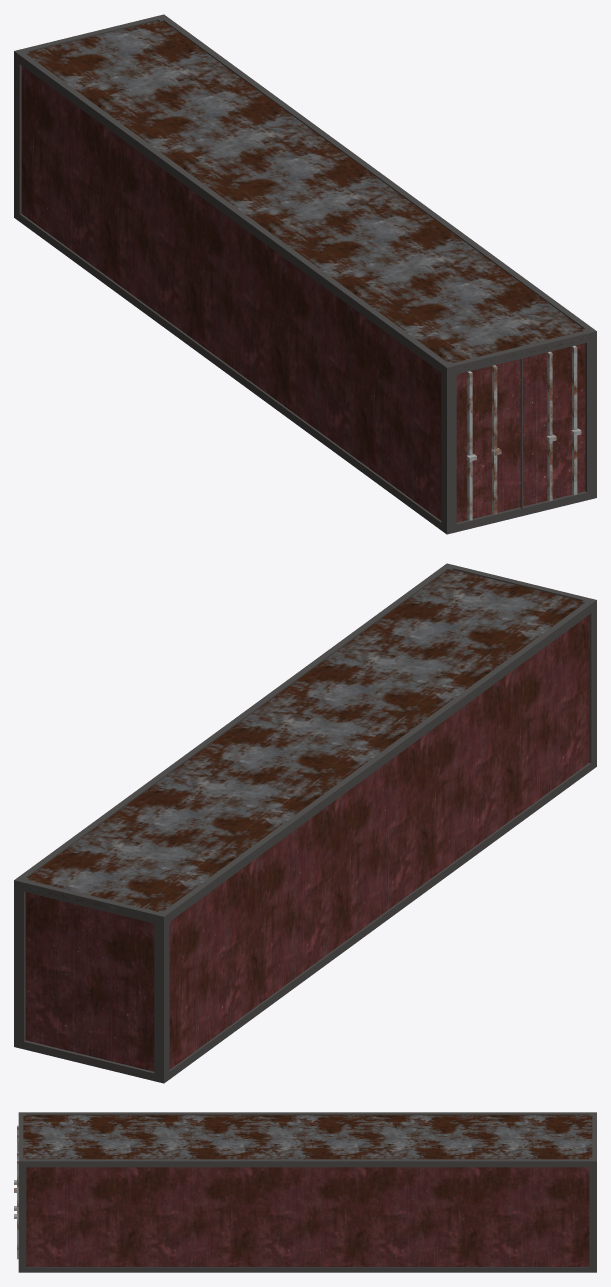
File: container_40_vermelho.glb
The picture shows the model from 3 angles, top to bottom: view 1: azimuth 30°, elevation 25°; view 2: azimuth 150°, elevation 25°; view 3: azimuth 270°, elevation 25°; orthographic projection. The views are drawn at different scales.
Visible parts, largest first — view 1: cont_vermelho; view 2: cont_vermelho; view 3: cont_vermelho.
Boxes of the visible parts, x1,y1,x2,y2 form: cont_vermelho: (14, 14, 596, 534); cont_vermelho: (14, 563, 596, 1083); cont_vermelho: (14, 1112, 596, 1272).
Bounding box in the file's own units: 2.44 × 2.59 × 12.29.
4 materials, 3 textured.
